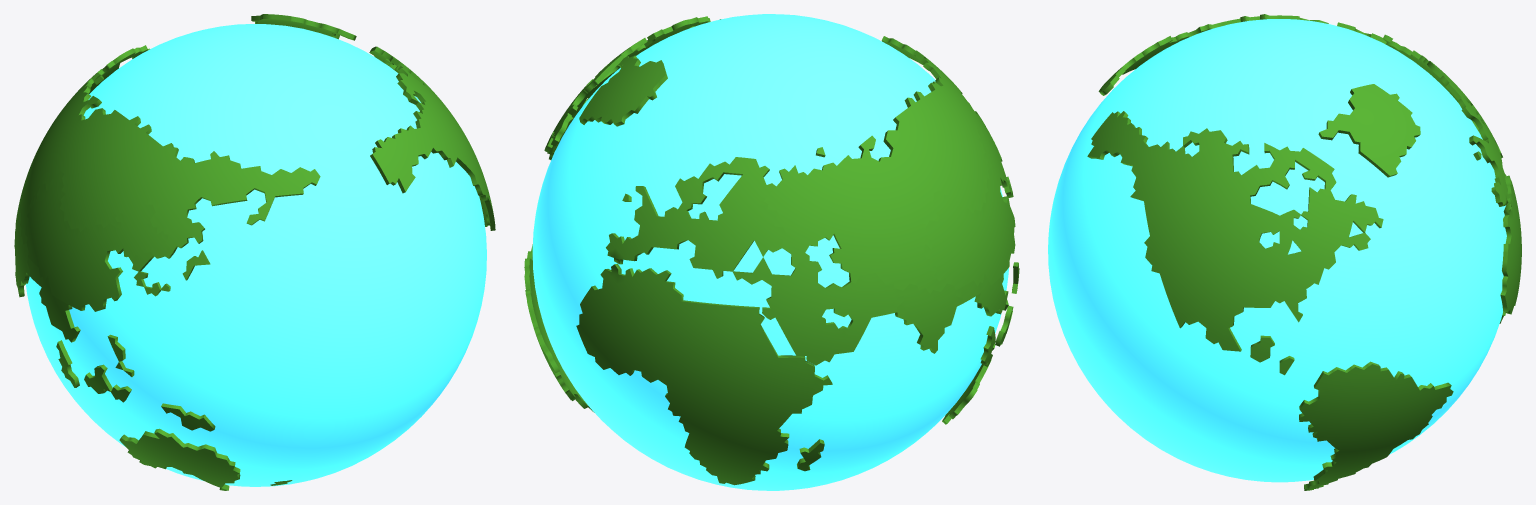
File: earth.gltf
The picture shows the model from 3 angles, left to right: view 1: azimuth 30°, elevation 25°; view 2: azimuth 150°, elevation 25°; view 3: azimuth 270°, elevation 25°; orthographic projection. The views are drawn at different scales.
Visible parts, largest first — view 1: ocean, asia, china, north_america.002, australia, iceland, india, indonesia.001, papa_new_guinea, europe; view 2: ocean, africa, asia, europe, middle_east, china, iceland, india, north_america.002, south_america, australia; view 3: ocean, north_america.002, south_america, iceland, asia, europe, africa, central_america.
Boxes of the visible parts, x1=… form: ocean: x1=26, y1=24, x2=486, y2=486; asia: x1=17, y1=69, x2=320, y2=342; china: x1=25, y1=171, x2=168, y2=311; north_america.002: x1=369, y1=46, x2=495, y2=230; australia: x1=119, y1=428, x2=240, y2=490; iceland: x1=251, y1=14, x2=356, y2=40; india: x1=14, y1=213, x2=29, y2=297; indonesia.001: x1=84, y1=364, x2=131, y2=402; papa_new_guinea: x1=161, y1=403, x2=215, y2=431; europe: x1=88, y1=45, x2=149, y2=93; ocean: x1=532, y1=14, x2=1008, y2=490; africa: x1=576, y1=263, x2=832, y2=485; asia: x1=764, y1=36, x2=1013, y2=316; europe: x1=606, y1=157, x2=787, y2=278; middle_east: x1=733, y1=257, x2=903, y2=365; china: x1=923, y1=127, x2=1015, y2=290; iceland: x1=579, y1=55, x2=667, y2=126; india: x1=895, y1=283, x2=963, y2=353; north_america.002: x1=544, y1=16, x2=720, y2=159; south_america: x1=524, y1=244, x2=594, y2=412; australia: x1=942, y1=344, x2=995, y2=424; ocean: x1=1048, y1=19, x2=1506, y2=482; north_america.002: x1=1087, y1=111, x2=1383, y2=351; south_america: x1=1299, y1=361, x2=1453, y2=490; iceland: x1=1318, y1=84, x2=1420, y2=177; asia: x1=1098, y1=14, x2=1452, y2=95; europe: x1=1427, y1=61, x2=1508, y2=206; africa: x1=1499, y1=174, x2=1521, y2=323; central_america: x1=1250, y1=335, x2=1294, y2=375.
Size of the model in its own units: 12.72 by 12.19 by 12.45.
